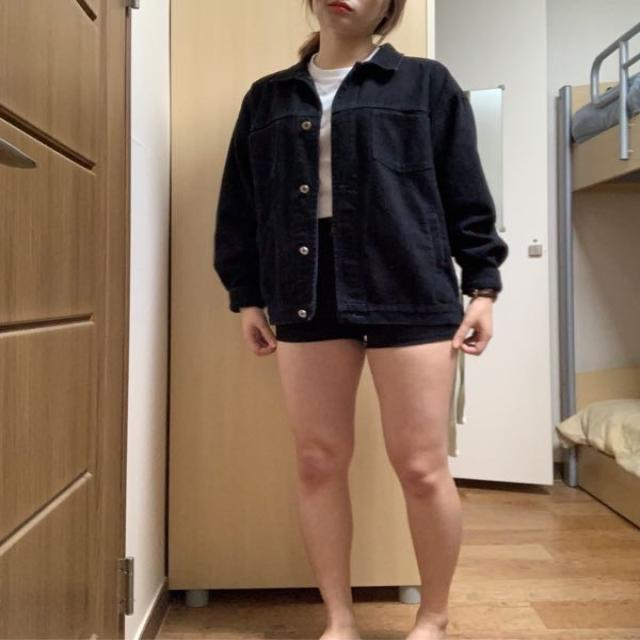jacket: (215, 46, 511, 328)
shortpants: (267, 212, 459, 348)
